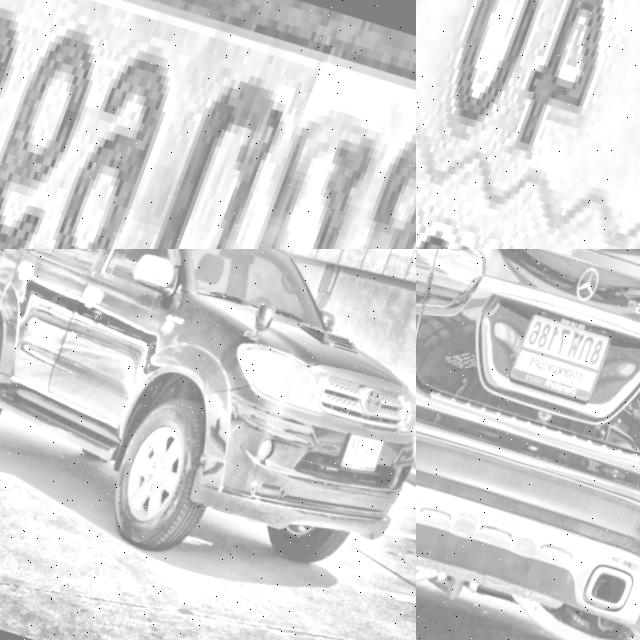license-plate: (0, 0, 416, 249), (416, 0, 640, 249), (510, 306, 621, 405), (341, 423, 397, 478)
